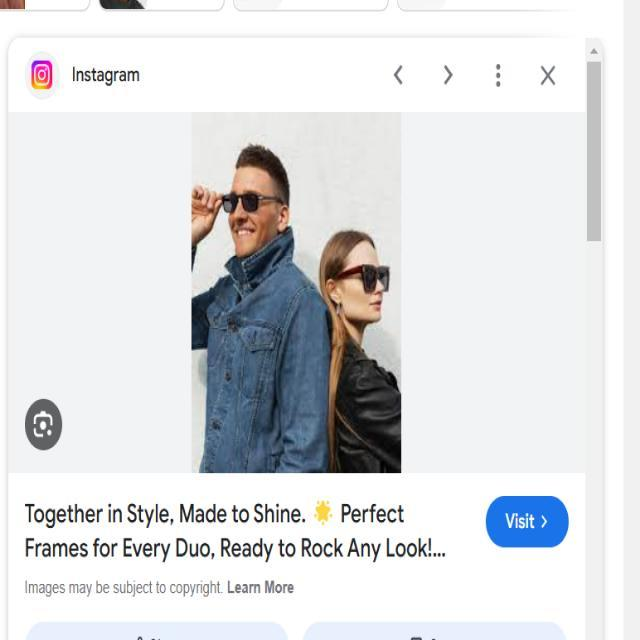face_no_mask: (225, 165, 288, 256), (330, 245, 389, 328)
